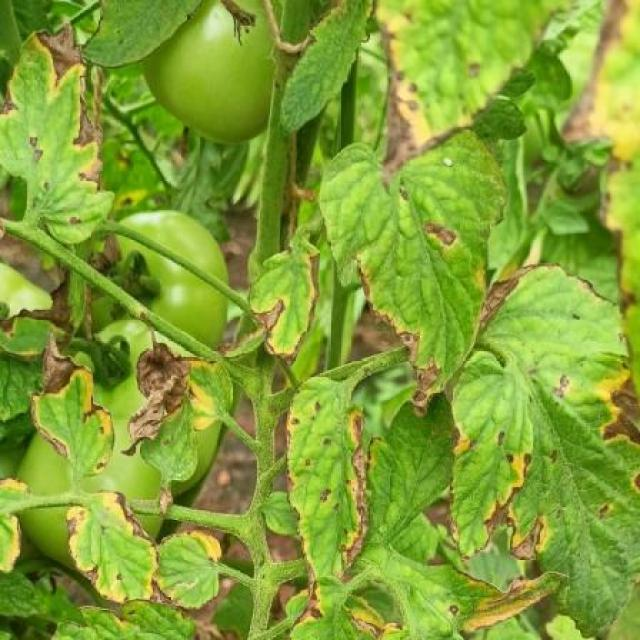Early Blight: (480, 254, 640, 640), (315, 126, 511, 414), (0, 18, 117, 248), (280, 365, 373, 579), (442, 357, 535, 564), (364, 564, 569, 639), (29, 322, 114, 484), (243, 227, 323, 370), (68, 489, 163, 604)
